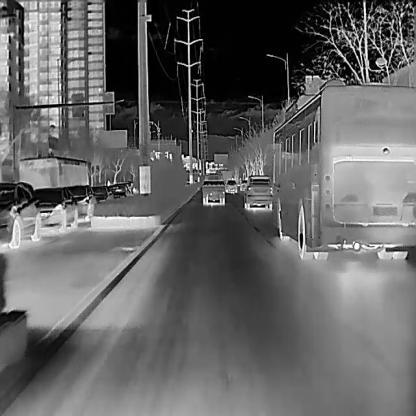car: (266, 77, 416, 259), (0, 181, 40, 248), (17, 155, 88, 190), (32, 187, 78, 232), (65, 185, 96, 222), (243, 175, 271, 208), (202, 173, 225, 204), (92, 183, 113, 203), (109, 181, 131, 198), (226, 180, 237, 193), (239, 180, 247, 190)
